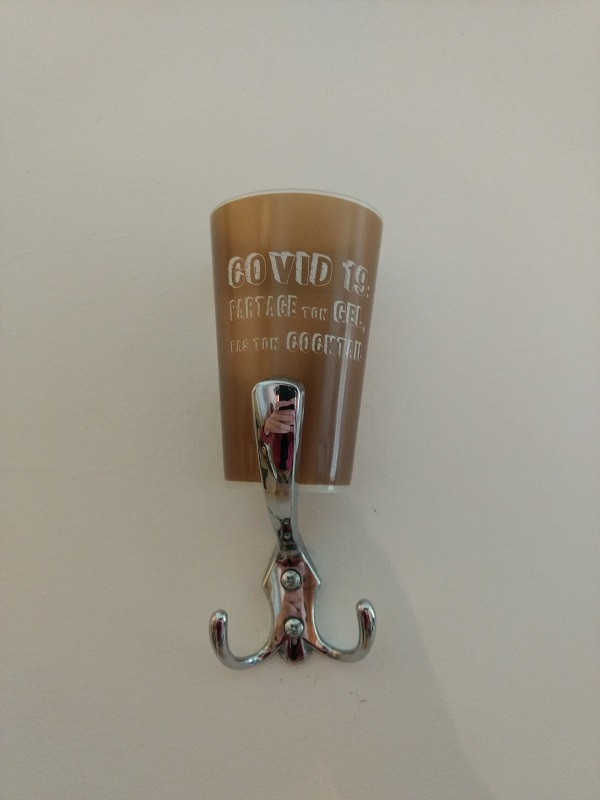ecocup: (207, 189, 383, 493)
